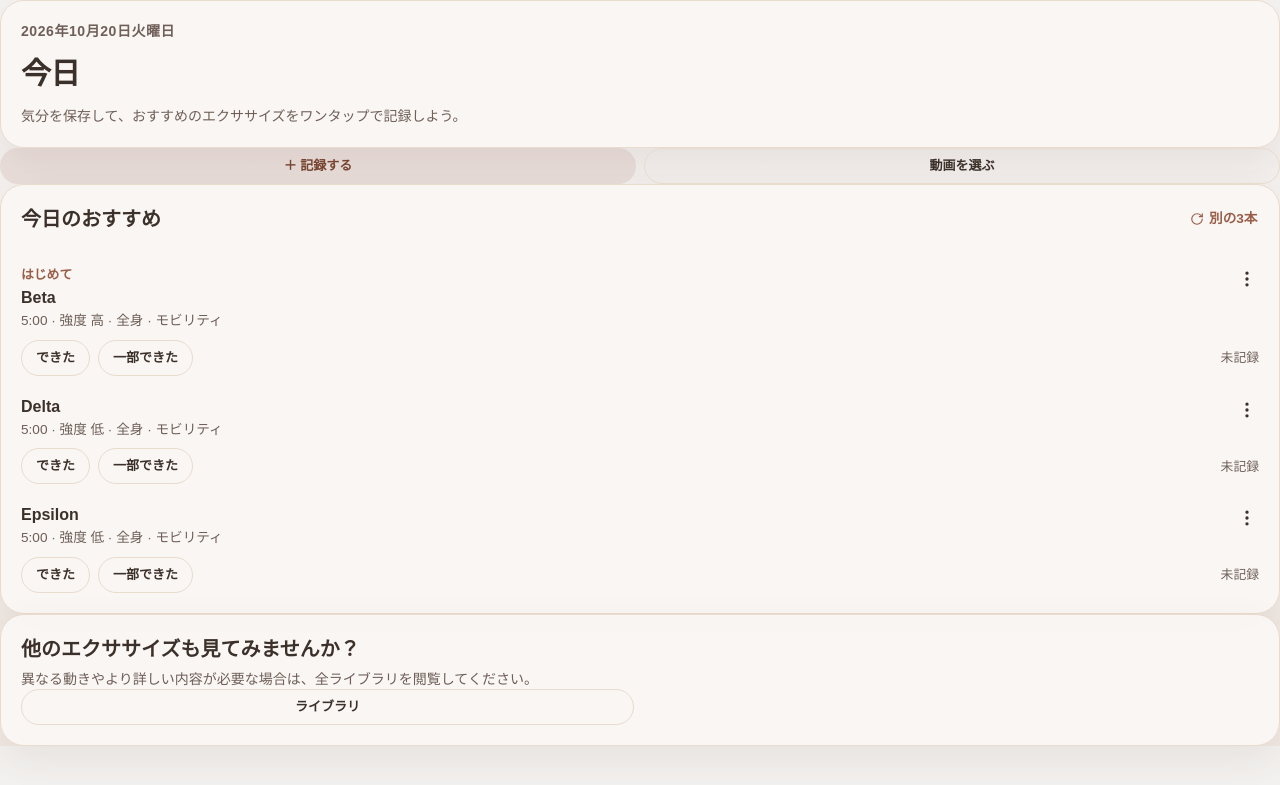
Test: today screen timeline › logging an exercise adds a timeline row, celebrates and counts repeats
This screenshot has width=1280, height=785.
Click the button "できた" below "Delta" at [56, 466], box [21,448,90,484]
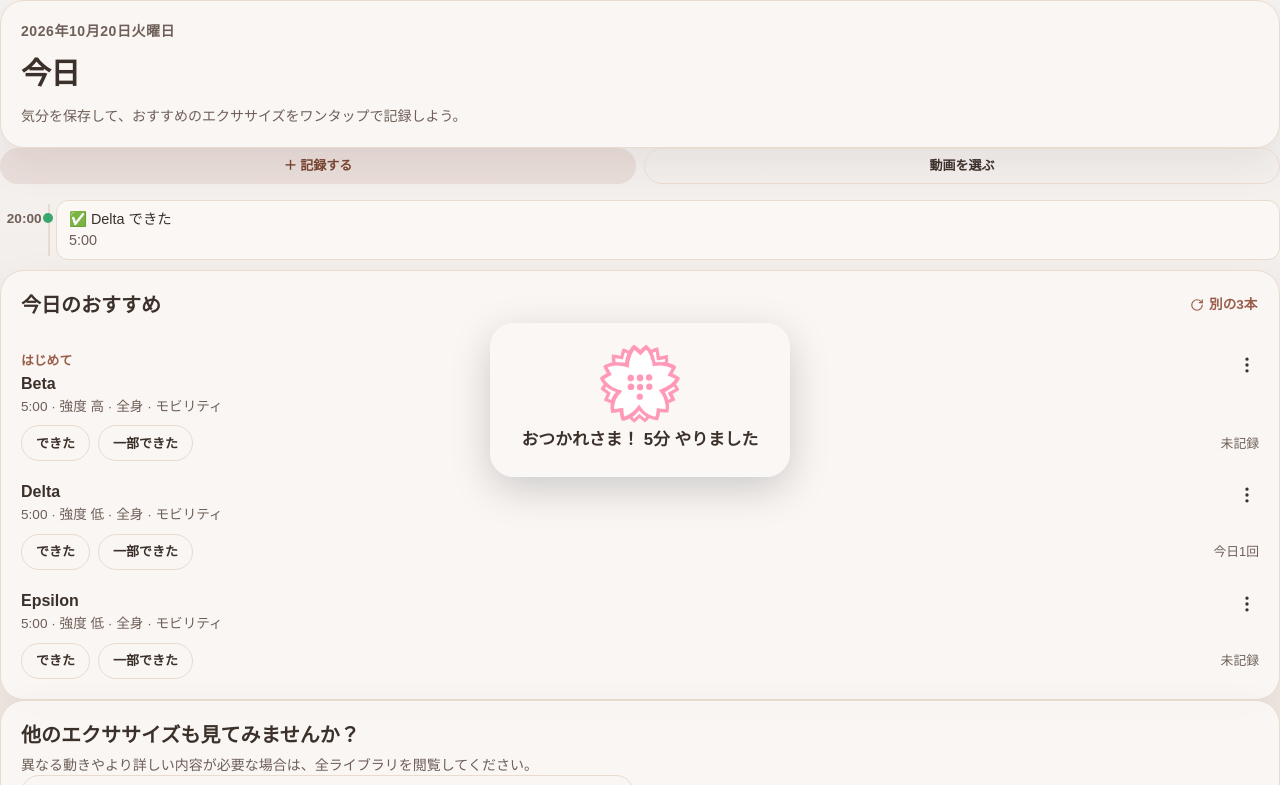
Now the button "✅ Delta できた 5:00" is shown, box [56,200,1279,260]
Now the text "おつかれさま！ 5分 やりました" is shown, box [522,427,758,453]
Now the text "今日1回" is shown, box [1214,542,1259,562]
Click the button "できた" in the row of "今日1回" at [56, 552], box [21,534,90,570]
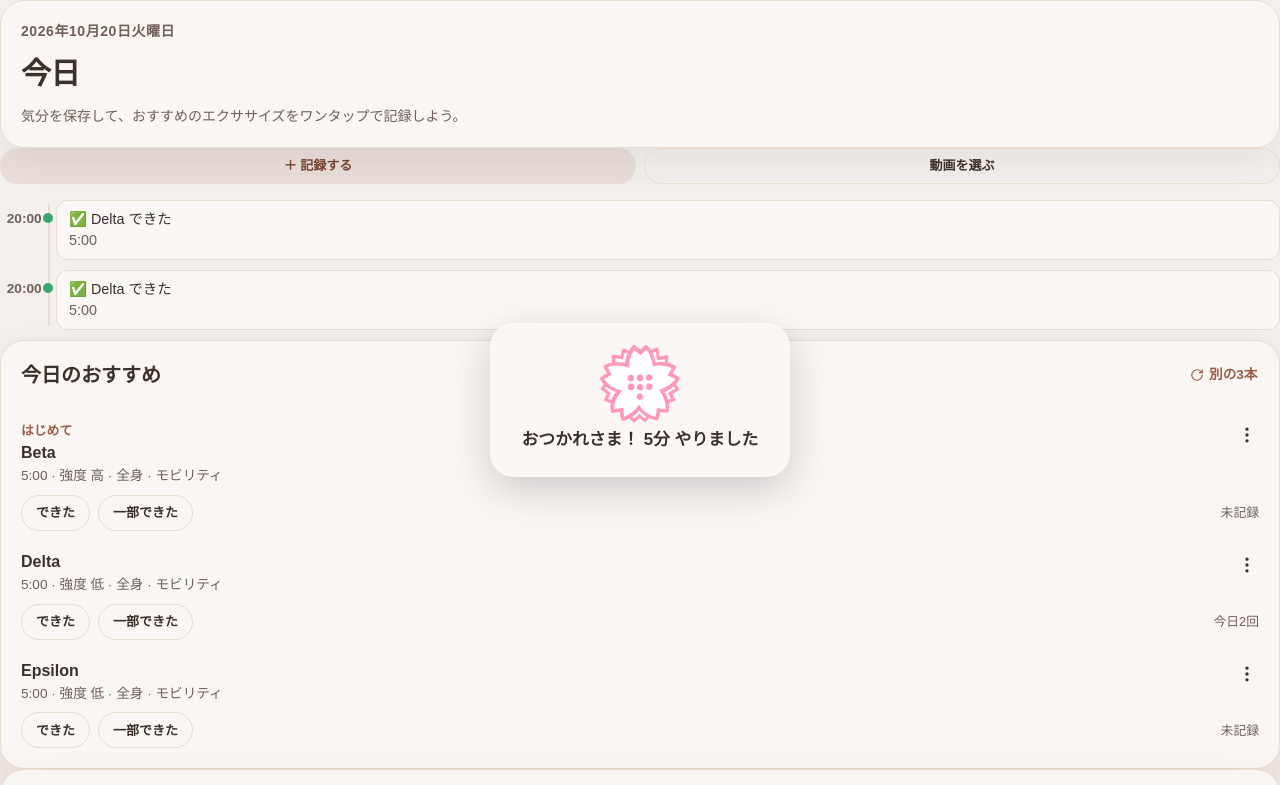
Now the text "今日2回" is shown, box [1214,612,1259,631]
Now the number of buttons "✅ Delta できた 5:00" is 2, box [56,200,1279,260]; [56,270,1279,330]
